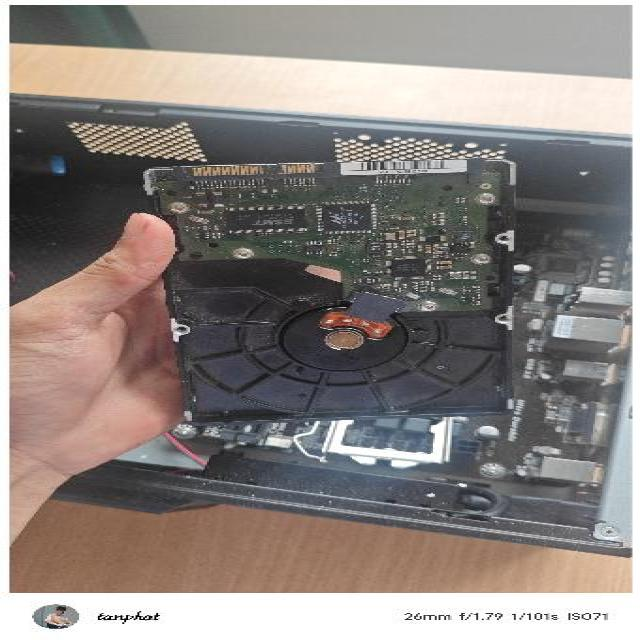DISK: (134, 158, 523, 426)
